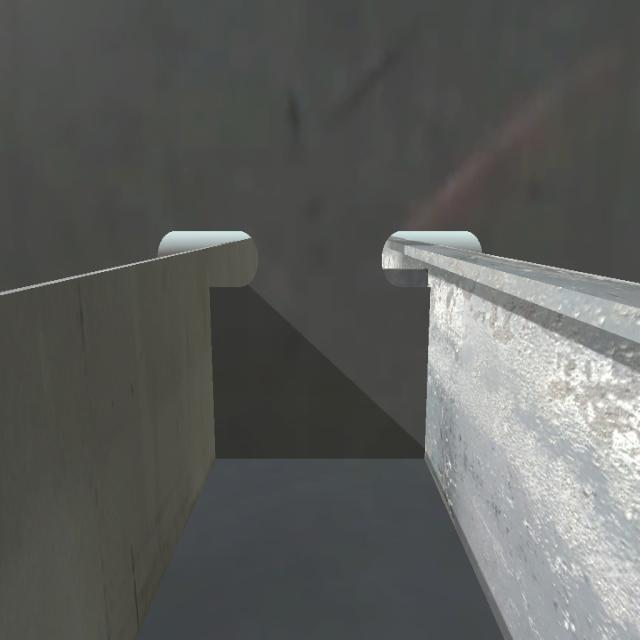fillet_yong_jeop_jang: (211, 449, 430, 469)
longi_yong_jeop_jang: (206, 280, 226, 464), (421, 282, 434, 458)
plate_behind: (387, 270, 429, 284)
